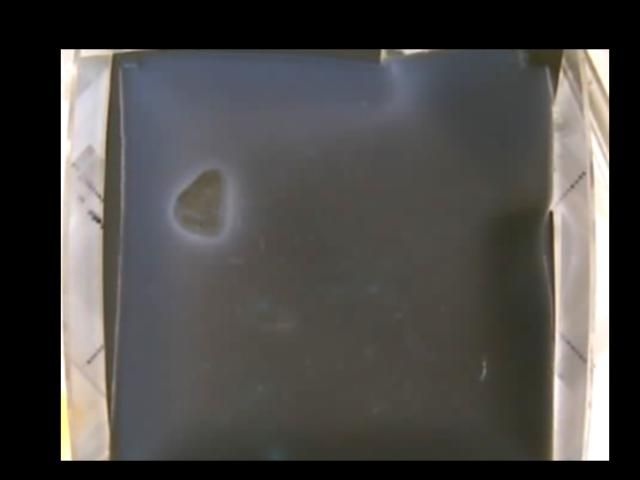Pebble: (167, 169, 229, 239)
